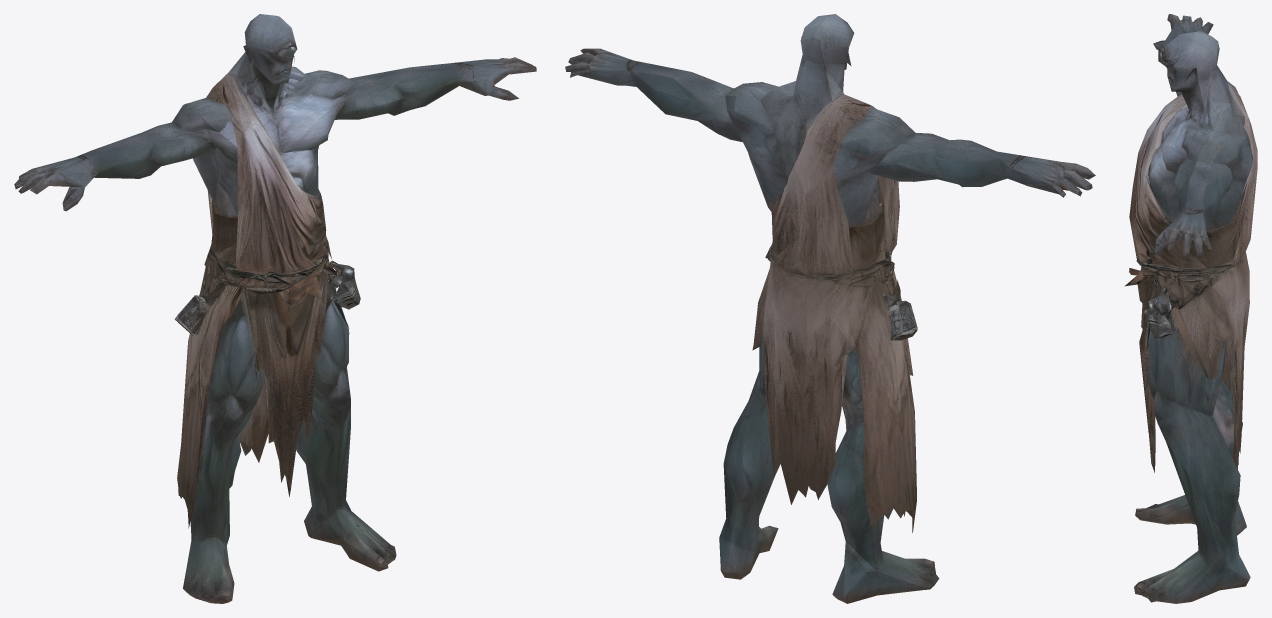
File: blue.compressed.glb
The picture shows the model from 3 angles, left to right: view 1: azimuth 30°, elevation 25°; view 2: azimuth 150°, elevation 25°; view 3: azimuth 270°, elevation 25°; orthographic projection. The views are drawn at different scales.
Parts seen in each view (by area): view 1: Mesh_0; view 2: Mesh_0; view 3: Mesh_0.
Boxes of the visible parts, x1,y1,x2,y2 form: Mesh_0: (14, 14, 536, 603); Mesh_0: (565, 14, 1095, 603); Mesh_0: (1124, 14, 1257, 603).
Bounding box in the file's own units: 60181 × 62169 × 14336.
1 material, 1 textured.
